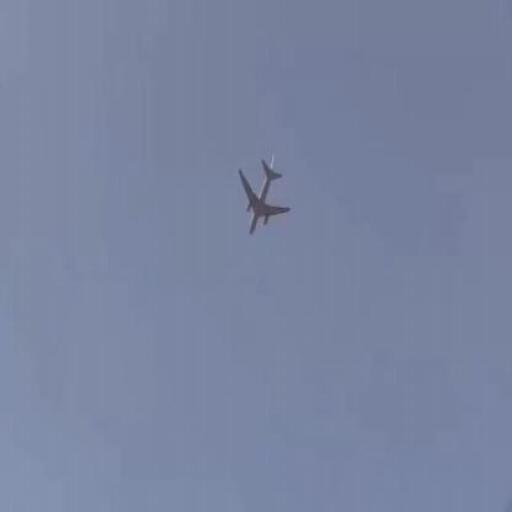aircraft: (235, 159, 289, 235)
